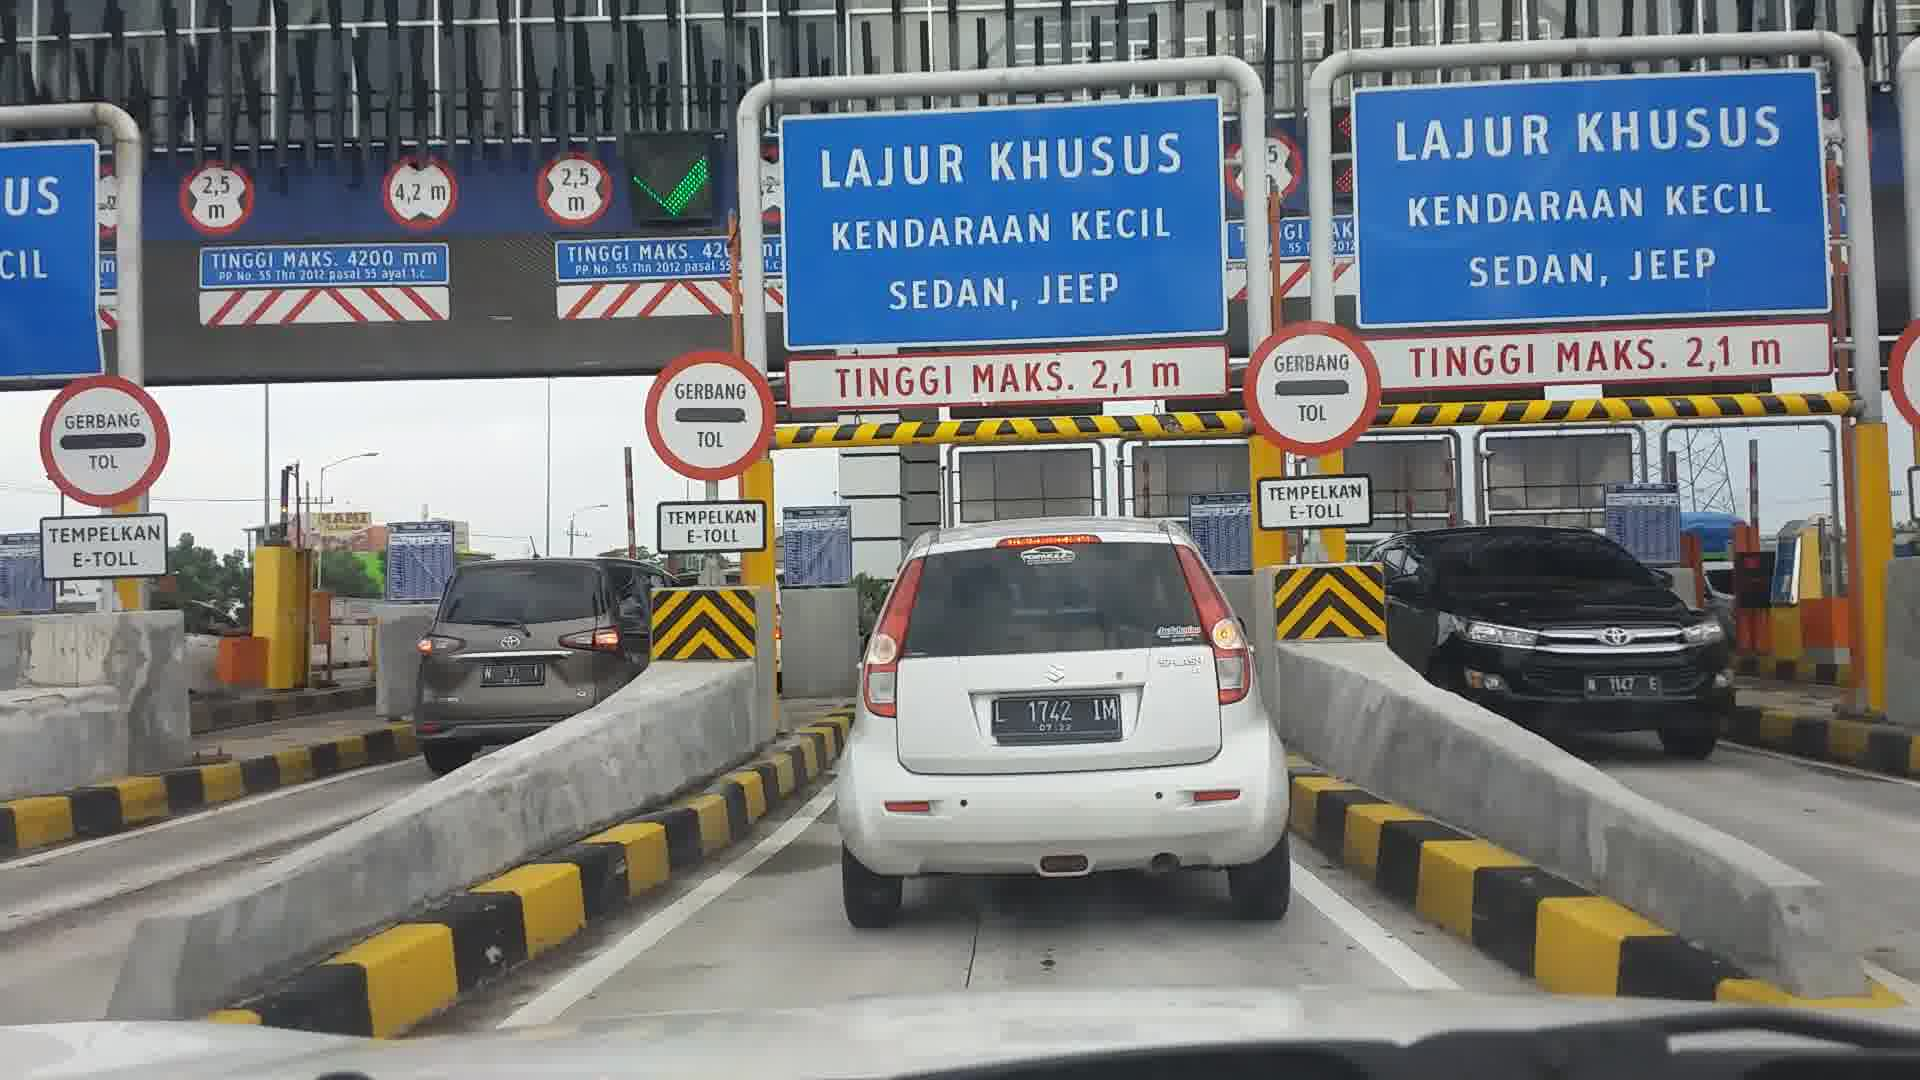plate_positive: (992, 696, 1121, 742), (481, 662, 545, 686)
